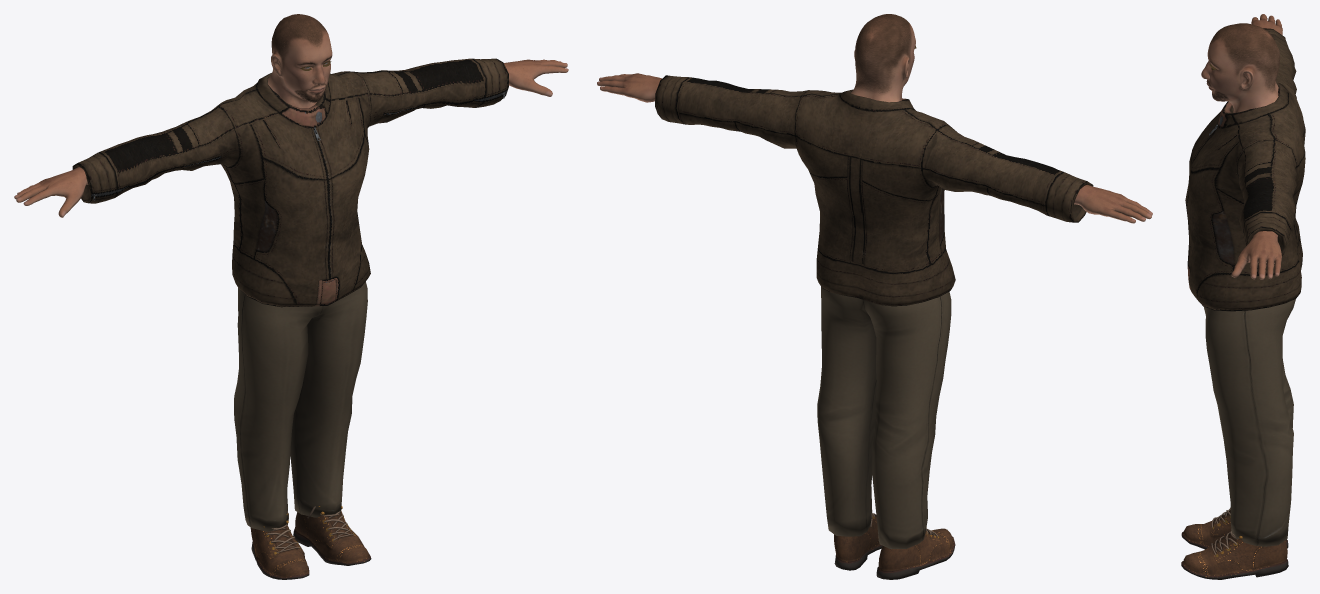
The picture shows the model from 3 angles, left to right: view 1: azimuth 30°, elevation 25°; view 2: azimuth 150°, elevation 25°; view 3: azimuth 270°, elevation 25°; orthographic projection.
Parts seen in each view (by area): view 1: Tops, Bottoms, Body, Shoes; view 2: Tops, Bottoms, Body, Shoes; view 3: Tops, Bottoms, Body, Shoes.
Boxes of the visible parts, x1=… form: Tops: x1=72, y1=58, x2=508, y2=307; Bottoms: x1=234, y1=281, x2=367, y2=531; Body: x1=14, y1=14, x2=568, y2=217; Shoes: x1=250, y1=506, x2=371, y2=579; Tops: x1=655, y1=75, x2=1093, y2=306; Bottoms: x1=817, y1=286, x2=951, y2=548; Body: x1=597, y1=14, x2=1152, y2=223; Shoes: x1=834, y1=510, x2=955, y2=579; Tops: x1=1185, y1=28, x2=1305, y2=311; Bottoms: x1=1204, y1=299, x2=1295, y2=546; Body: x1=1201, y1=14, x2=1282, y2=279; Shoes: x1=1181, y1=507, x2=1288, y2=579.
Size of the model in its own units: 194 by 181 by 38.39.
Materials: 4 (4 with a texture image).
